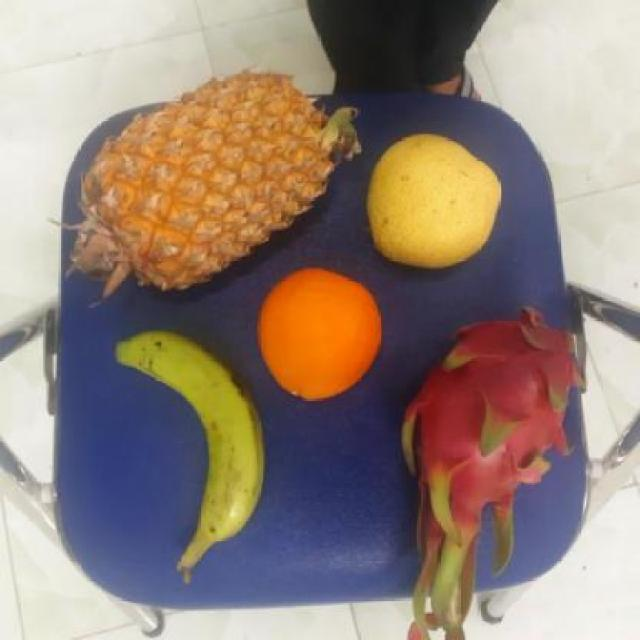banana: (116, 328, 262, 560)
dragon fruit: (389, 304, 583, 574)
oren: (254, 270, 384, 402)
pear: (357, 133, 506, 270)
pineapple: (59, 67, 343, 290)
